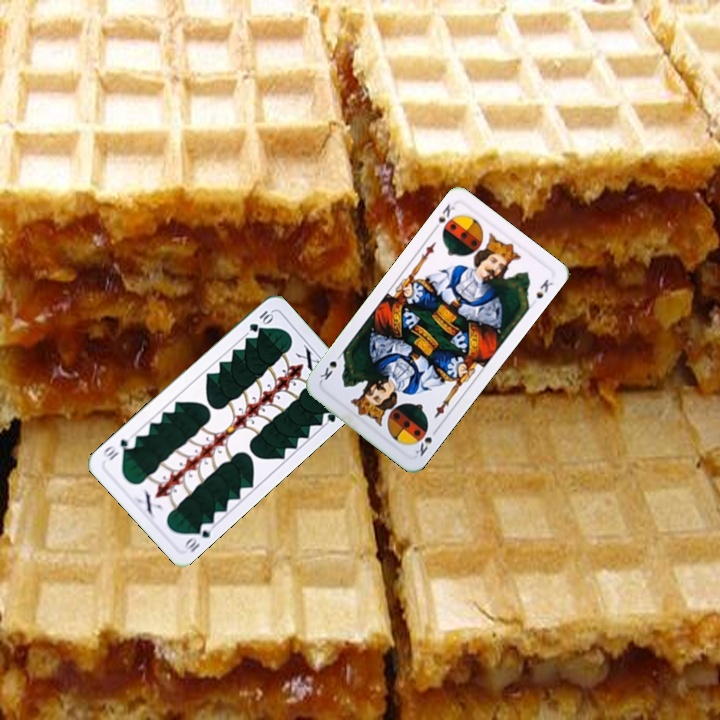G10: (181, 518, 216, 555), (245, 306, 276, 335)
SK: (409, 424, 441, 459), (430, 200, 457, 234)
